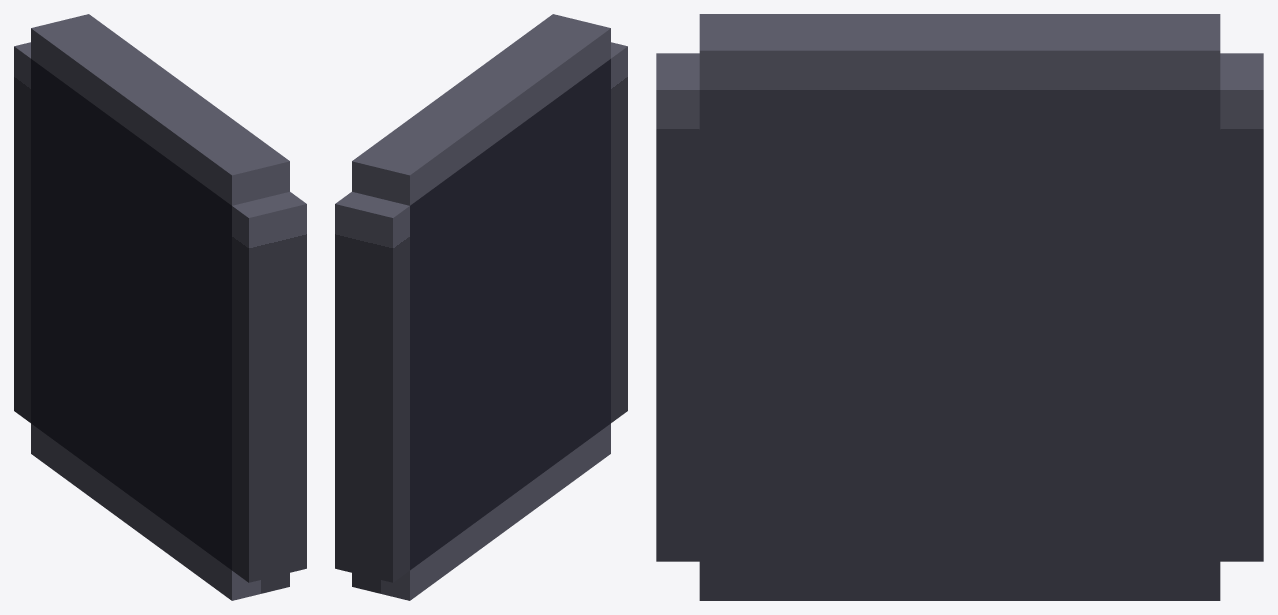
The model's file is ProductBoard.obj.
The picture shows the model from 3 angles, left to right: view 1: azimuth 30°, elevation 25°; view 2: azimuth 150°, elevation 25°; view 3: azimuth 270°, elevation 25°; orthographic projection. The views are drawn at different scales.
Parts seen in each view (by area): view 1: ProductBoard_ProductBoard.001; view 2: ProductBoard_ProductBoard.001; view 3: ProductBoard_ProductBoard.001.
Boxes of the visible parts, x1=… form: ProductBoard_ProductBoard.001: x1=14, y1=14, x2=306, y2=600; ProductBoard_ProductBoard.001: x1=335, y1=14, x2=627, y2=600; ProductBoard_ProductBoard.001: x1=656, y1=14, x2=1263, y2=600.
Bounding box in the file's own units: 0.2 × 1.4 × 1.4.
Materials: 1 (1 with a texture image).
